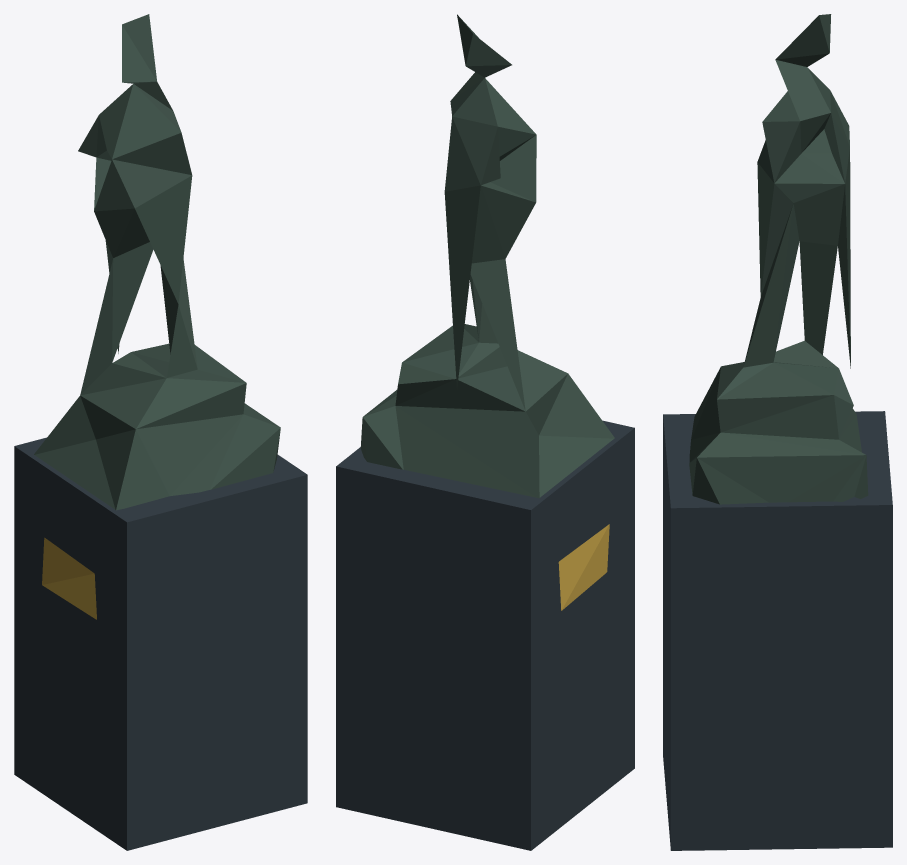
File: belle.lod2.glb
The picture shows the model from 3 angles, left to right: view 1: azimuth 30°, elevation 25°; view 2: azimuth 150°, elevation 25°; view 3: azimuth 270°, elevation 25°; orthographic projection. The views are drawn at different scales.
Parts seen in each view (by area): view 1: lod2; view 2: lod2; view 3: lod2.
Boxes of the visible parts, x1,y1,x2,y2 form: lod2: [14, 14, 307, 850]; lod2: [336, 14, 634, 850]; lod2: [663, 14, 892, 850].
Size of the model in its own units: 0.4878 by 1.85 by 0.486.
